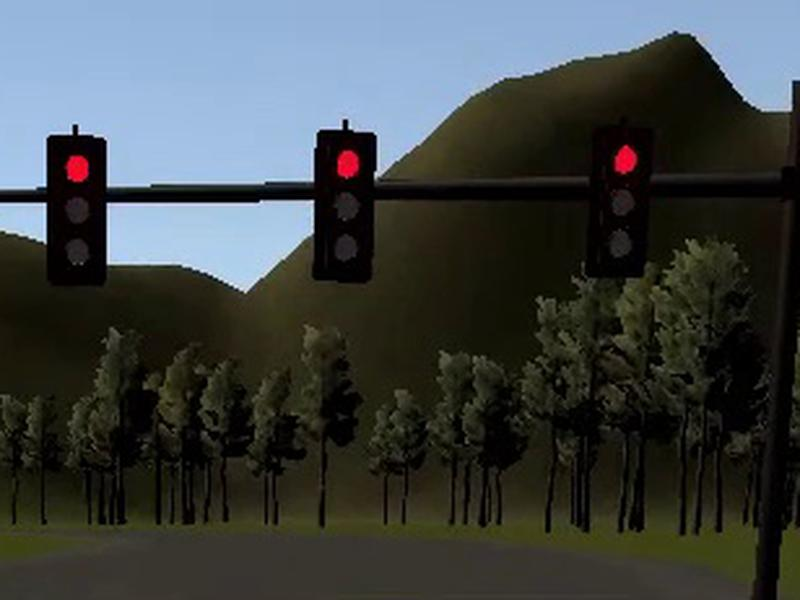Red: (586, 126, 654, 277), (314, 132, 377, 282), (46, 134, 107, 288)
